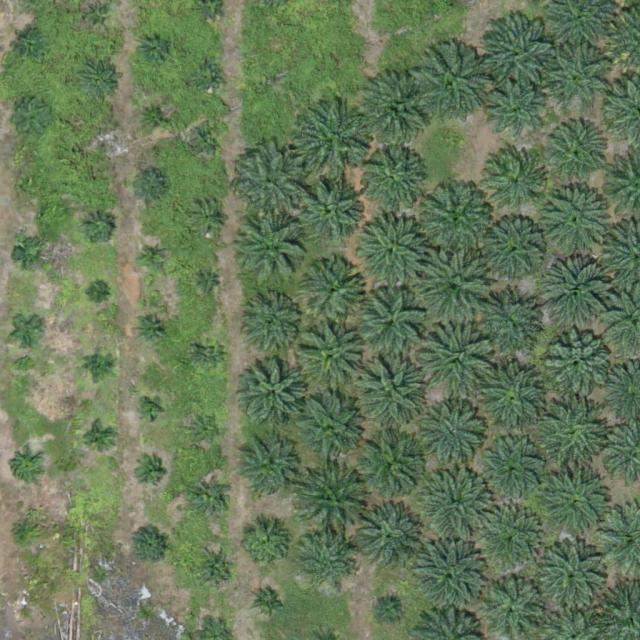Healthy: (478, 16, 556, 95), (412, 49, 490, 128), (298, 102, 376, 181), (416, 247, 494, 326), (418, 179, 496, 258), (534, 398, 612, 477), (540, 467, 618, 546), (352, 352, 430, 431), (419, 320, 497, 399), (531, 534, 609, 613), (361, 73, 432, 144), (539, 260, 609, 331), (236, 147, 306, 218), (354, 288, 425, 358), (424, 468, 494, 539), (356, 433, 426, 504), (299, 468, 369, 539), (296, 396, 366, 467), (298, 323, 368, 394), (352, 503, 423, 573), (416, 544, 486, 615), (472, 503, 543, 573), (539, 183, 609, 253), (241, 214, 311, 284), (355, 215, 425, 285), (544, 330, 614, 400), (479, 364, 549, 434), (482, 219, 545, 282), (299, 179, 362, 242), (480, 444, 543, 507), (425, 406, 488, 469), (546, 46, 608, 109), (544, 122, 606, 185), (485, 79, 547, 142), (303, 259, 365, 322), (244, 362, 306, 425), (484, 151, 546, 213), (473, 296, 535, 358), (361, 147, 423, 209), (236, 441, 298, 503), (247, 298, 301, 353), (300, 535, 354, 590), (19, 36, 43, 59)
Small: (237, 518, 292, 573), (7, 94, 54, 141), (197, 550, 236, 590), (131, 167, 170, 207), (193, 482, 232, 521), (131, 525, 170, 564), (80, 62, 119, 101), (252, 583, 291, 622), (83, 423, 114, 455), (135, 457, 166, 489), (193, 203, 224, 235), (83, 211, 114, 243), (141, 100, 172, 132), (8, 516, 39, 548), (196, 340, 227, 371), (84, 350, 115, 381), (14, 316, 45, 347), (11, 452, 42, 483), (140, 32, 171, 63), (15, 241, 46, 272), (193, 124, 224, 155), (193, 62, 224, 93), (80, 2, 111, 33), (138, 243, 169, 274), (190, 414, 221, 445), (137, 314, 168, 345), (374, 595, 405, 626), (20, 175, 44, 199), (139, 398, 163, 422), (200, 277, 216, 292), (90, 285, 105, 301), (97, 134, 112, 149), (17, 605, 32, 620)
